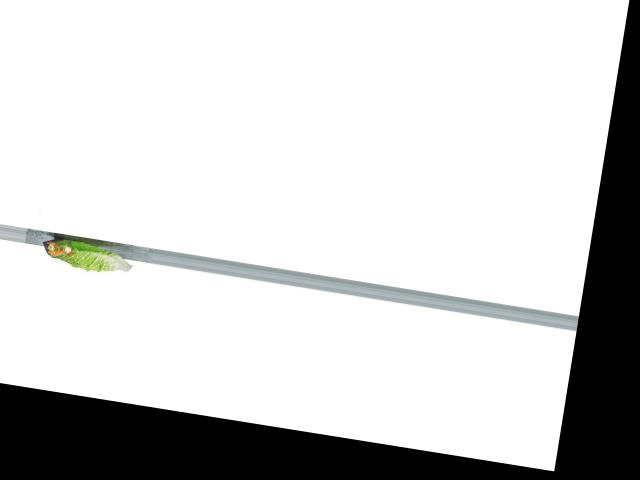lettuce: (35, 230, 136, 280)
